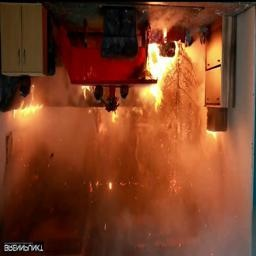fire: (5, 35, 198, 143)
